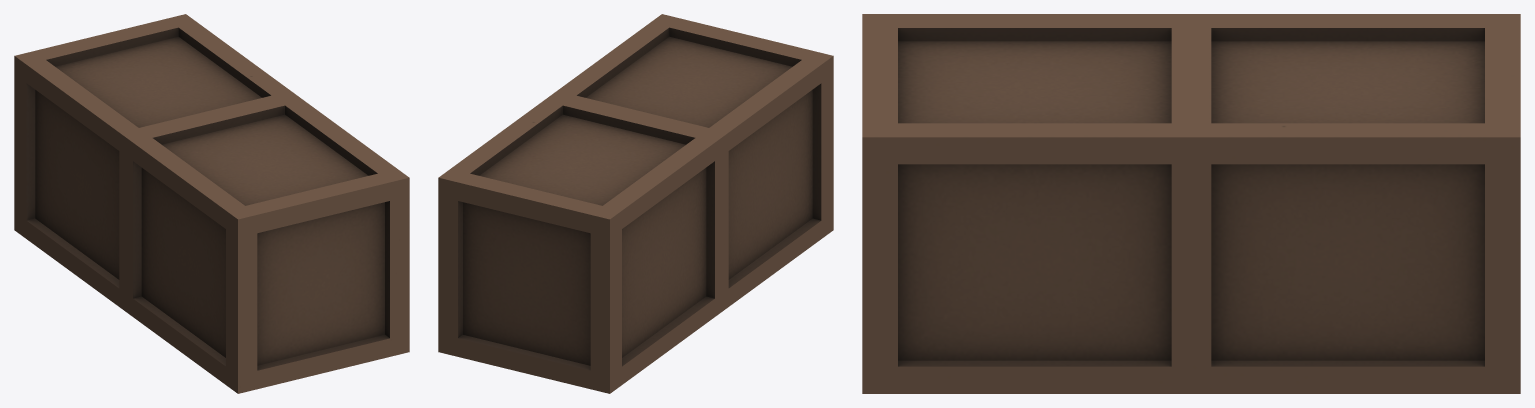
The model's file is Crate_Long_Tall.fbx.
3 renders of one model, left to right at view 1: azimuth 30°, elevation 25°; view 2: azimuth 150°, elevation 25°; view 3: azimuth 270°, elevation 25°, orthographic. The views are drawn at different scales.
Visible parts, largest first — view 1: Crate_Long_Tall; view 2: Crate_Long_Tall; view 3: Crate_Long_Tall.
Part boxes in pixels (x1=…): Crate_Long_Tall: x1=14, y1=14, x2=409, y2=393; Crate_Long_Tall: x1=438, y1=14, x2=833, y2=393; Crate_Long_Tall: x1=862, y1=14, x2=1520, y2=393.
Size of the model in its own units: 1.29 by 1.25 by 2.91.
